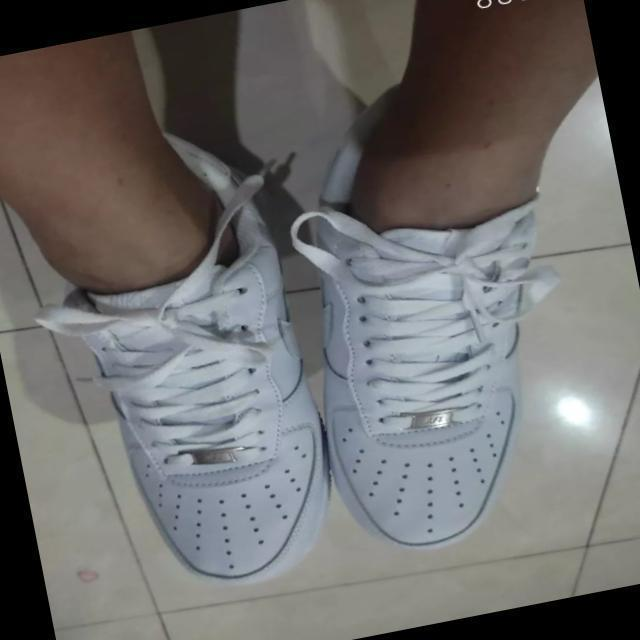nike fake air force: (259, 64, 615, 568), (34, 115, 357, 604)
